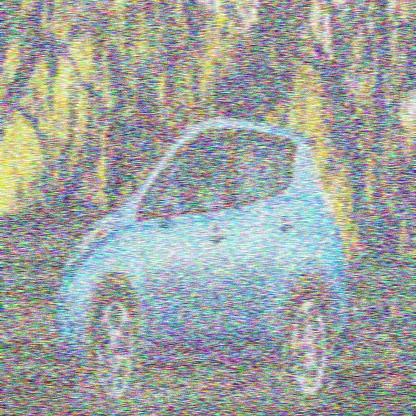Vehicle: (53, 118, 353, 411)
